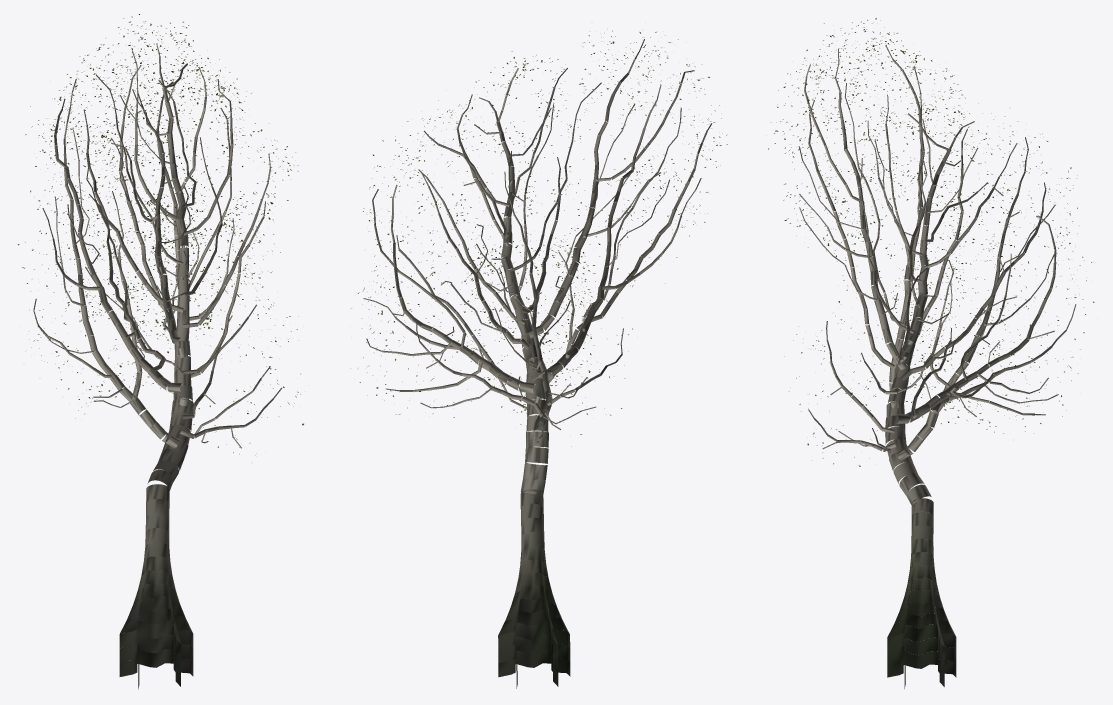
Rendered from SM_Tree_birch_1.glb.
3 renders of one model, left to right at view 1: azimuth 30°, elevation 25°; view 2: azimuth 150°, elevation 25°; view 3: azimuth 270°, elevation 25°, orthographic. The views are drawn at different scales.
Parts seen in each view (by area): view 1: SM_Tree_birch_1; view 2: SM_Tree_birch_1; view 3: SM_Tree_birch_1.
Part boxes in pixels (x1,y1,x2,y2): SM_Tree_birch_1: [18, 14, 303, 689]; SM_Tree_birch_1: [351, 30, 727, 688]; SM_Tree_birch_1: [768, 18, 1094, 688].
Bounding box in the file's own units: 5.84 × 12.21 × 5.92.
